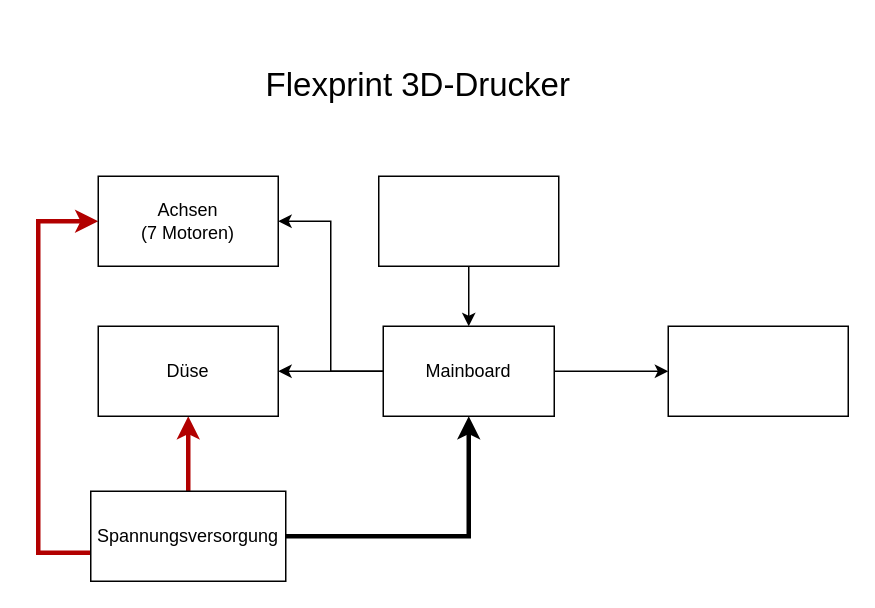
Image size: 875x608. Some labels were removed from this diagram. Each missing label, with the box of its shape:
Display + Drehtaste: (667, 325, 848, 416)
Mikrocontroller (ESP32/STM): (377, 175, 559, 266)
